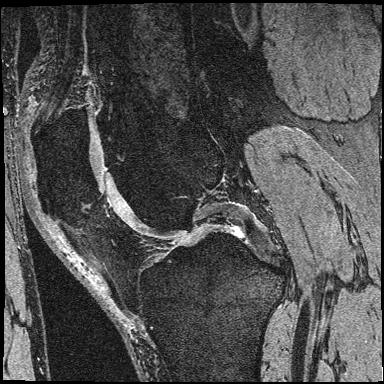SagKneeJointArea: (29, 104, 288, 321)
